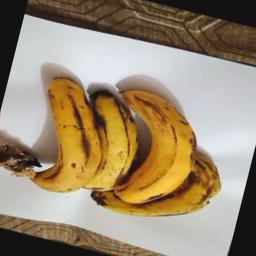Banana Unripe: (90, 80, 240, 236), (8, 64, 119, 201), (56, 79, 148, 206)
